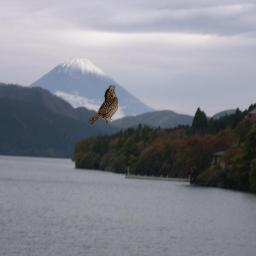Sparrow: (87, 85, 118, 125)
